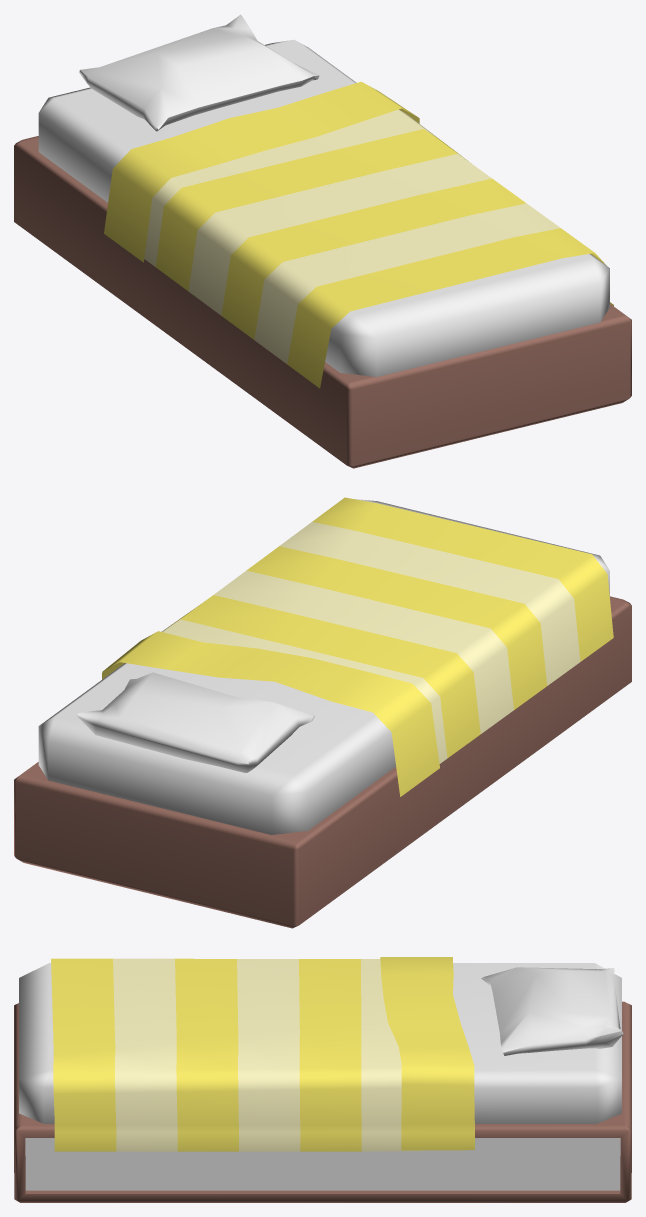
File: SM_bed_001.FBX
3 views of the same model, one above another, from view 1: azimuth 30°, elevation 25°; view 2: azimuth 150°, elevation 25°; view 3: azimuth 270°, elevation 25° (orthographic). The views are drawn at different scales.
Parts seen in each view (by area): view 1: SM_bed_001; view 2: SM_bed_001; view 3: SM_bed_001.
Boxes of the visible parts, x1=… form: SM_bed_001: x1=14, y1=14, x2=631, y2=468; SM_bed_001: x1=14, y1=497, x2=631, y2=928; SM_bed_001: x1=14, y1=957, x2=631, y2=1202.
Size of the model in its own units: 112 by 221 by 62.28.
